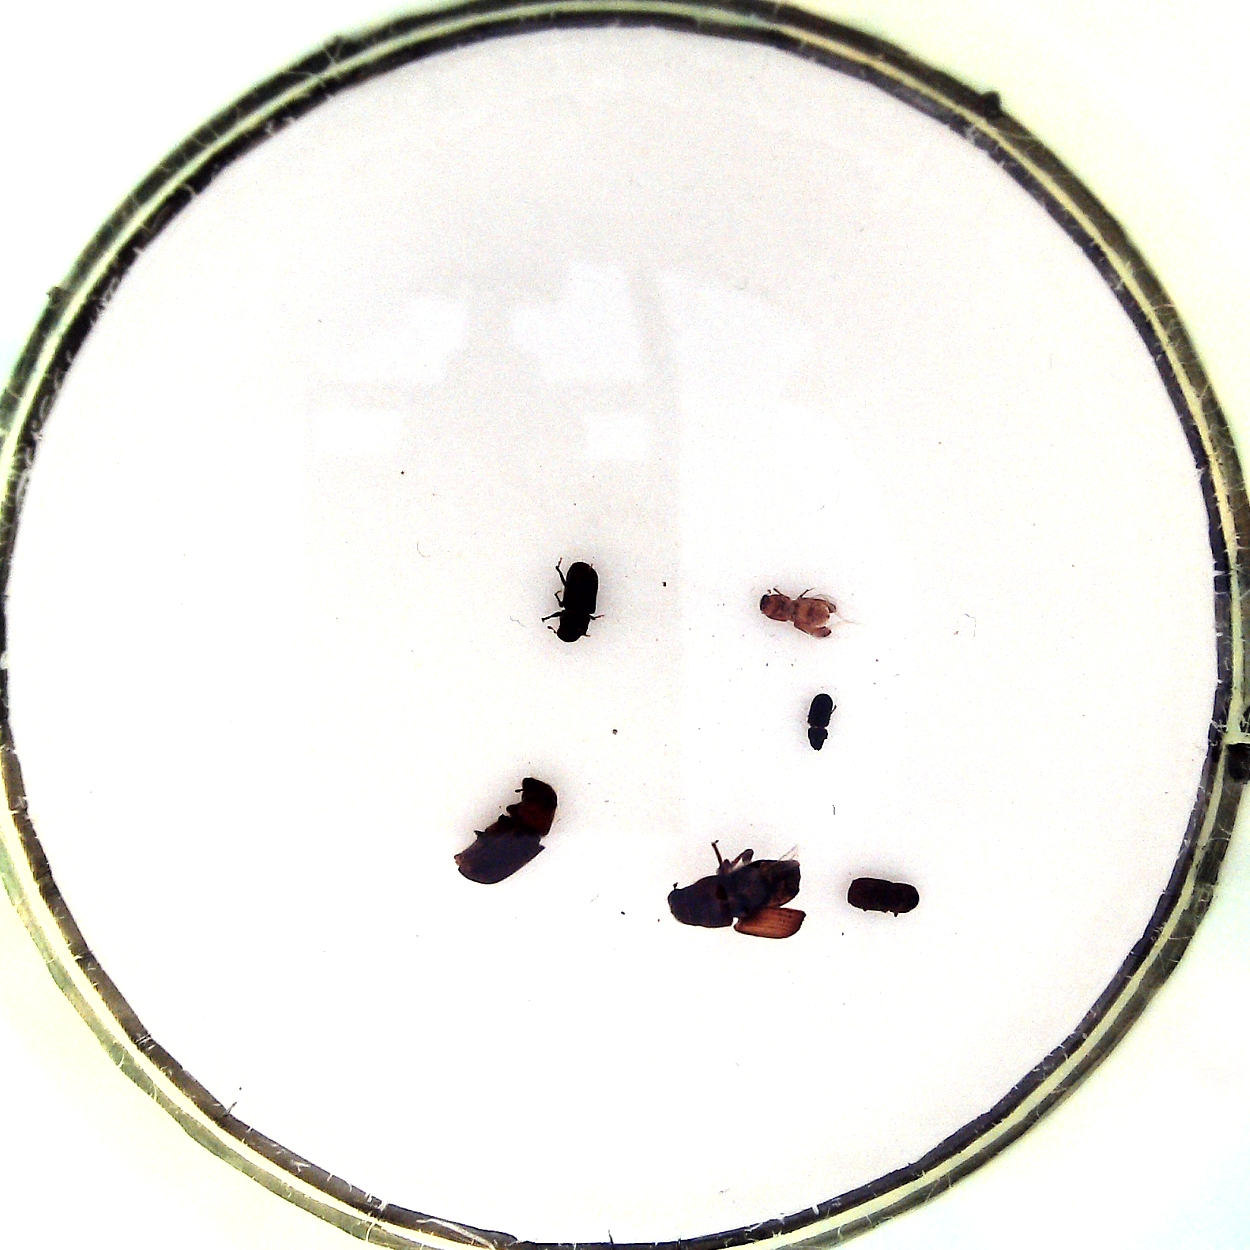Leconte: (666, 837, 812, 946), (451, 773, 557, 887)
Linnaeus: (845, 875, 928, 921)
acuminatus: (758, 587, 834, 642)
armandi: (541, 557, 609, 644)
coleoptera: (800, 688, 840, 757)
